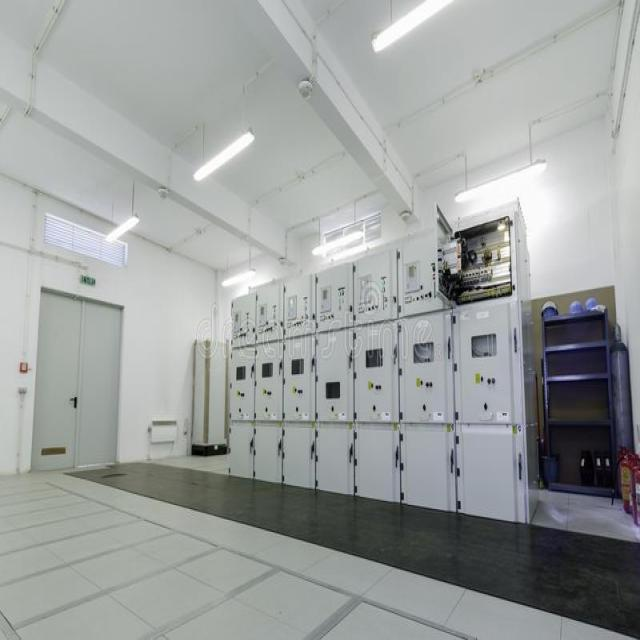fire_extinguisher: (613, 442, 635, 514), (628, 453, 639, 530)
